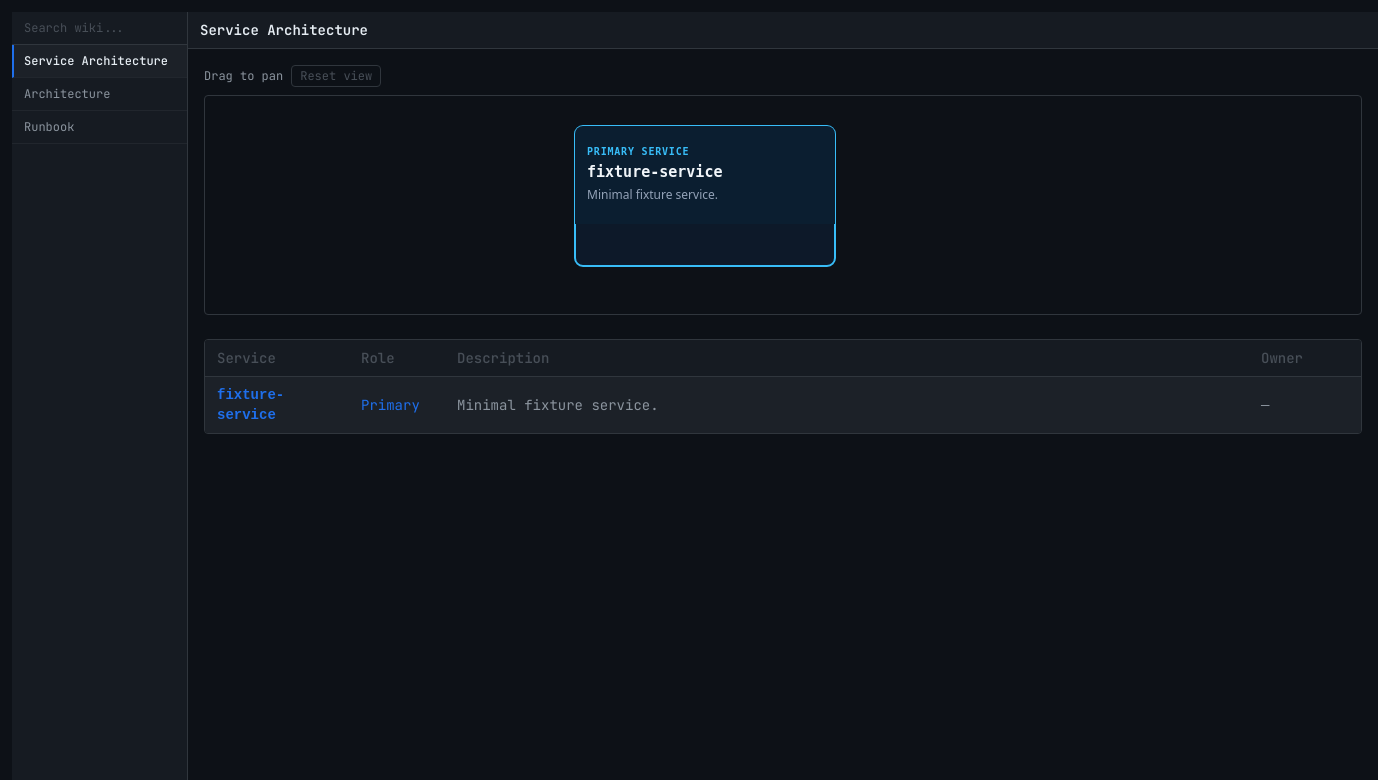
WikiTab › page selection › clicking a scenario page shows its content
Click the text "Architecture" at point(100, 94), box [12, 78, 187, 111]
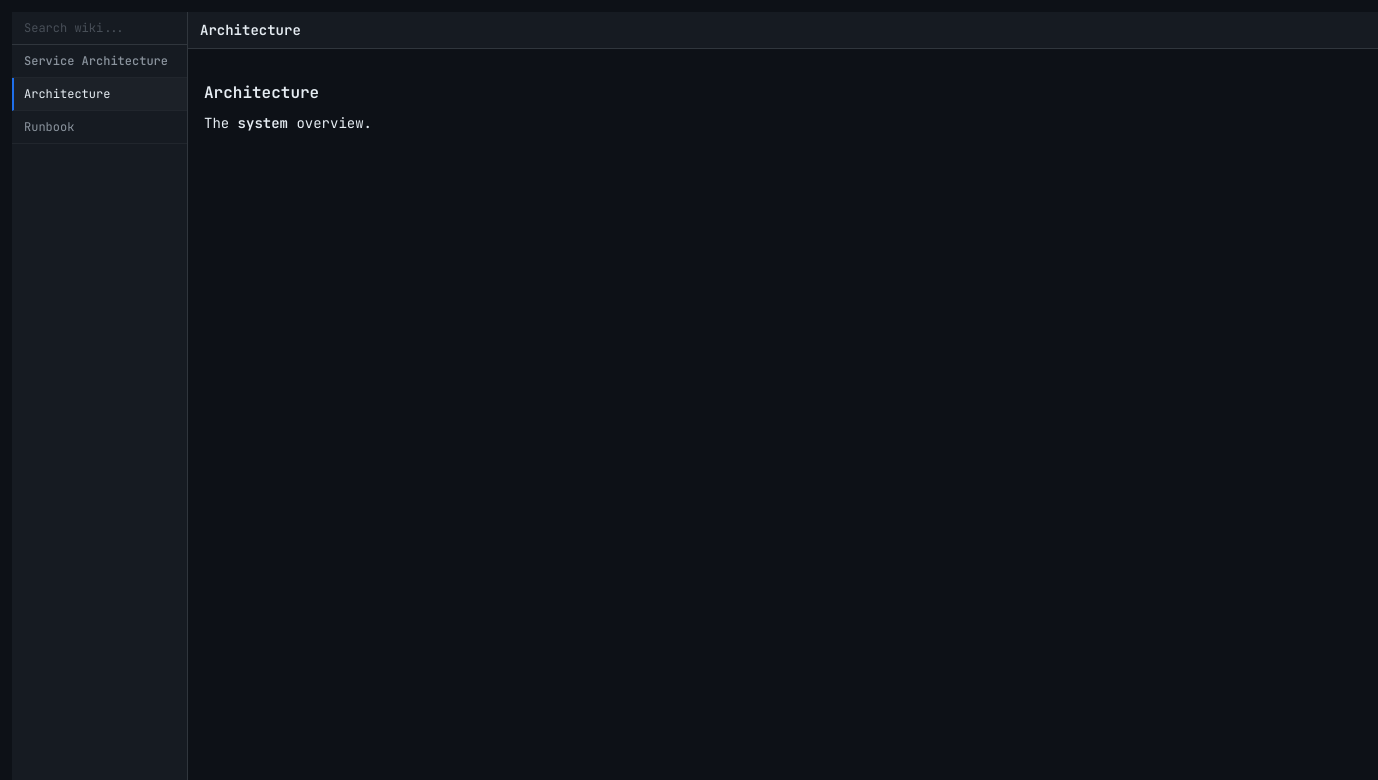
Expected: the heading "Architecture" is shown, [204, 82, 319, 103]
